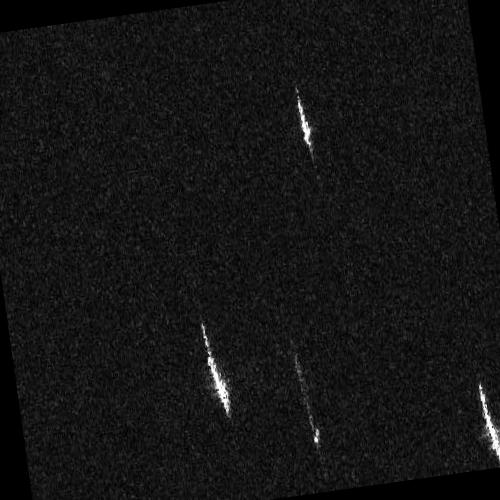ship: (200, 321, 231, 418), (295, 357, 321, 445), (478, 381, 500, 462), (296, 92, 313, 153)
